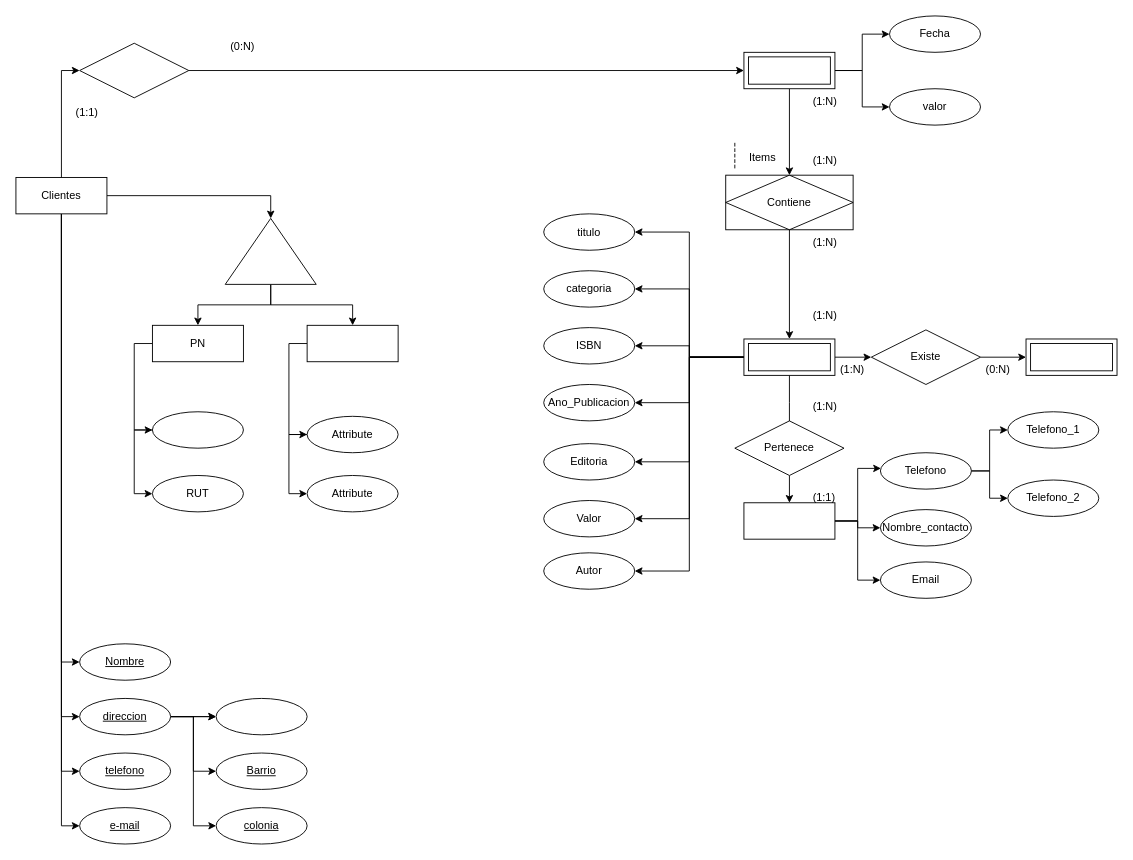
The diagram is 1133 pixels wide and 860 high, and some of its shapes have lost their labels. The box of each missing label's shape, as (x1, y1, x2, y2) in pixels:
Calle: (215, 698, 307, 735)
DNI: (152, 411, 243, 448)
Editorial: (743, 502, 835, 539)
ID: (224, 217, 316, 284)
Inventario: (1025, 338, 1117, 375)
Libros: (743, 338, 835, 375)
Pedido de compra: (743, 51, 835, 89)
PJ: (306, 324, 398, 362)
Realiza: (79, 42, 189, 98)
